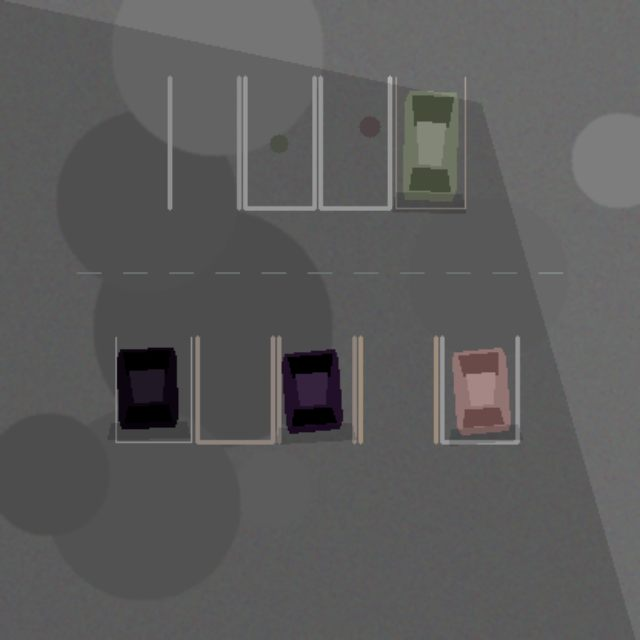space-empty: (169, 77, 238, 208), (245, 77, 314, 208), (320, 77, 389, 208), (197, 337, 272, 442), (360, 337, 435, 442)
space-occupied: (395, 77, 465, 208), (115, 337, 191, 442), (278, 337, 354, 442), (442, 337, 517, 442)
